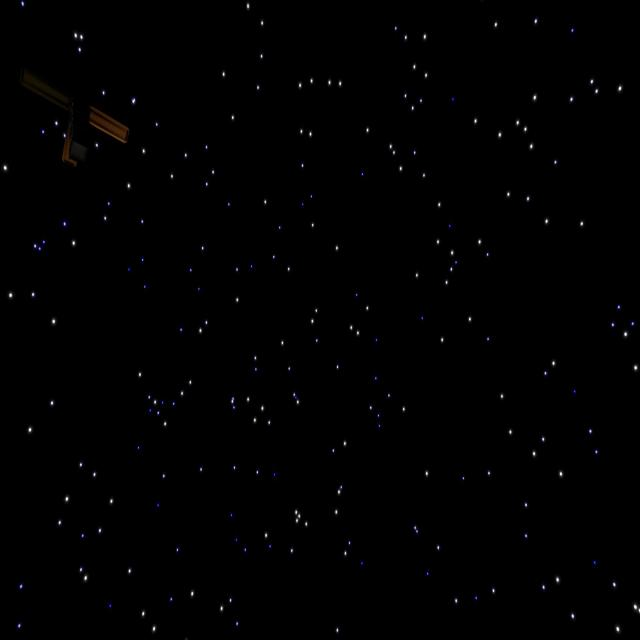satellite: (17, 73, 136, 174)
